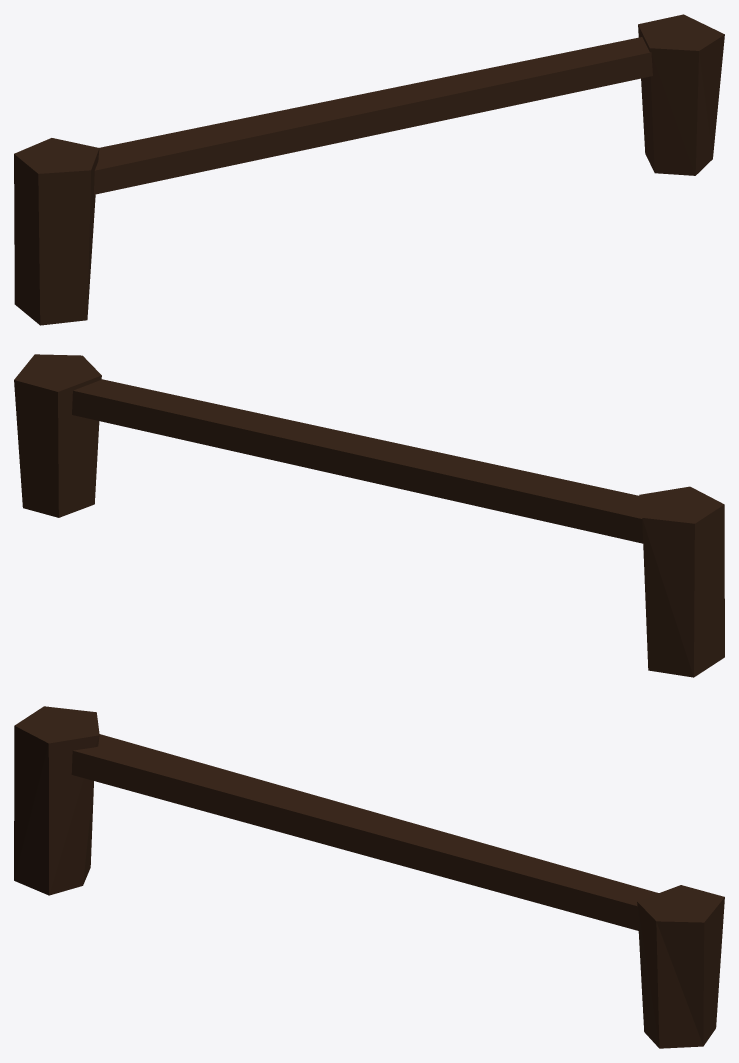
The model's file is Cave_Lair_Wooden_Timber_Rail_Large_01.fbx.
3 views of the same model, one above another, from view 1: azimuth 30°, elevation 25°; view 2: azimuth 150°, elevation 25°; view 3: azimuth 330°, elevation 25° (orthographic). The views are drawn at different scales.
Parts seen in each view (by area): view 1: Cave_Lair_Wooden_Timber_Rail_Large_01; view 2: Cave_Lair_Wooden_Timber_Rail_Large_01; view 3: Cave_Lair_Wooden_Timber_Rail_Large_01.
Boxes of the visible parts, x1=… form: Cave_Lair_Wooden_Timber_Rail_Large_01: x1=14, y1=14, x2=724, y2=325; Cave_Lair_Wooden_Timber_Rail_Large_01: x1=14, y1=354, x2=724, y2=677; Cave_Lair_Wooden_Timber_Rail_Large_01: x1=14, y1=706, x2=724, y2=1048.
Bounding box in the file's own units: 5.88 × 1.24 × 0.7381.
